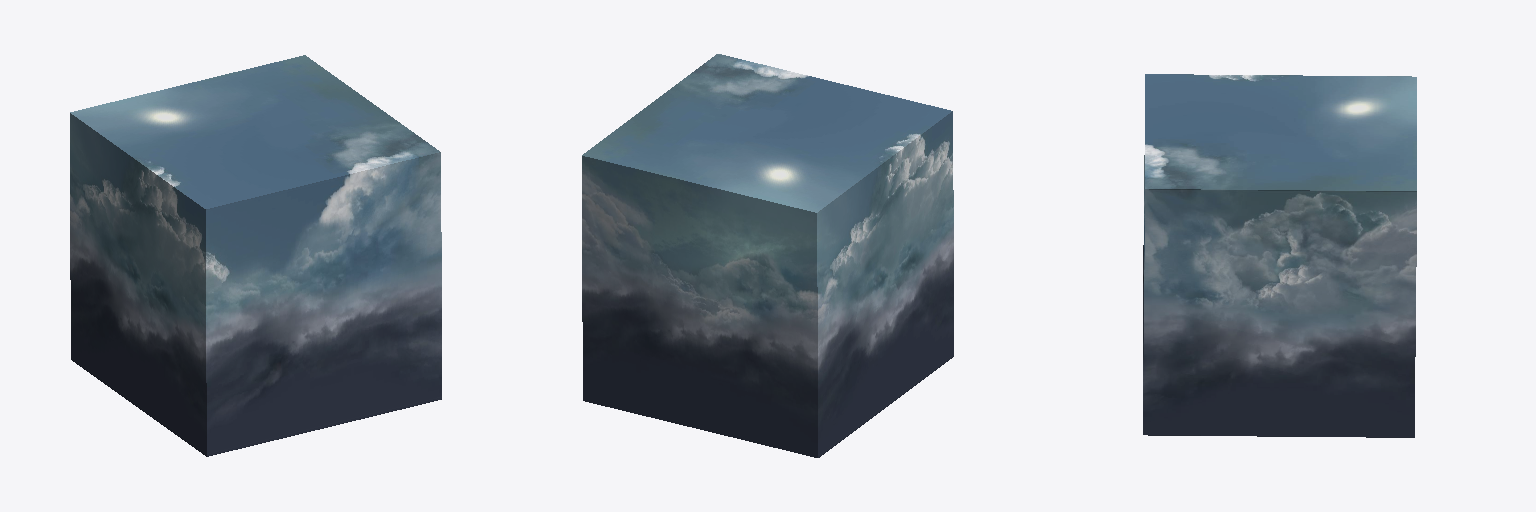
The picture shows the model from 3 angles: view 1: azimuth 30°, elevation 25°; view 2: azimuth 150°, elevation 25°; view 3: azimuth 270°, elevation 25°; orthographic projection.
Parts seen in each view (by area): view 1: Cube.005_Cube.011; view 2: Cube.005_Cube.011; view 3: Cube.005_Cube.011.
Boxes of the visible parts, box(x1,y1,x2,y2) form: Cube.005_Cube.011: box(70, 55, 441, 456); Cube.005_Cube.011: box(582, 54, 953, 457); Cube.005_Cube.011: box(1143, 74, 1416, 437).
Bounding box in the file's own units: 115 × 116 × 116.
61 materials, 7 textured.